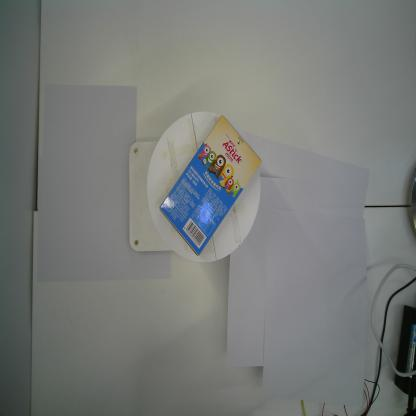Dessert: (158, 114, 262, 258)
